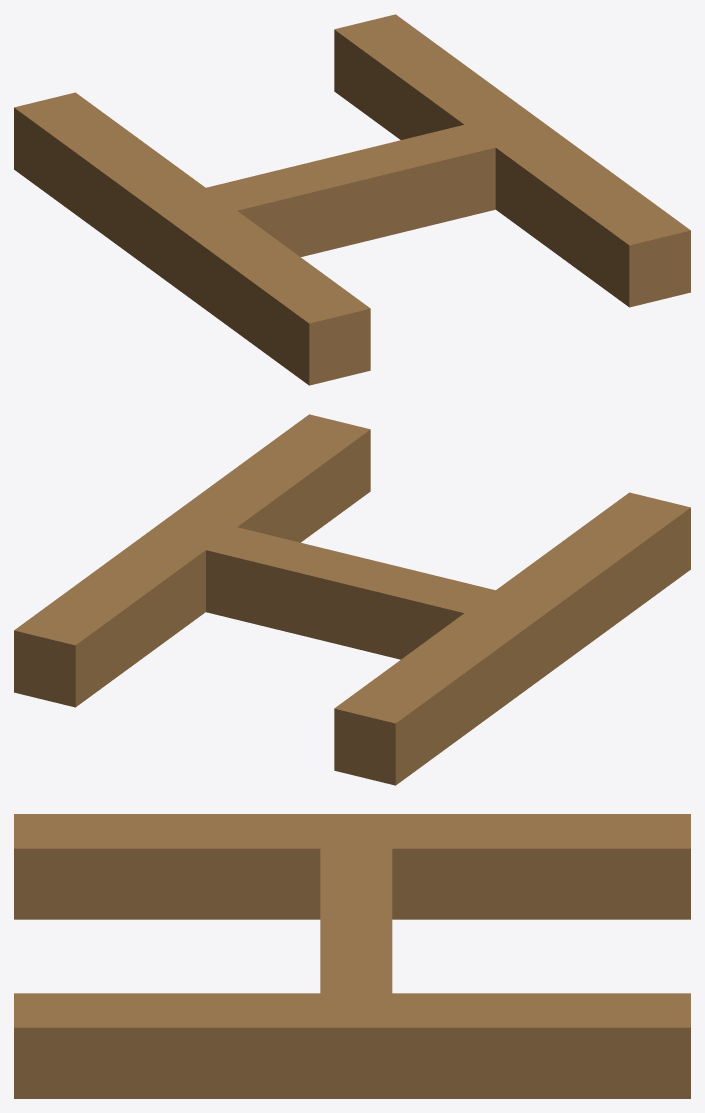
3 views of the same model, one above another, from view 1: azimuth 30°, elevation 25°; view 2: azimuth 150°, elevation 25°; view 3: azimuth 270°, elevation 25° (orthographic). The views are drawn at different scales.
Visible parts, largest first — view 1: H; view 2: H; view 3: H.
Boxes of the visible parts, x1,y1,x2,y2 form: H: [14, 14, 690, 385]; H: [14, 414, 690, 785]; H: [14, 814, 690, 1098].
Size of the model in its own units: 0.1616 by 0.0251 by 0.2165.
